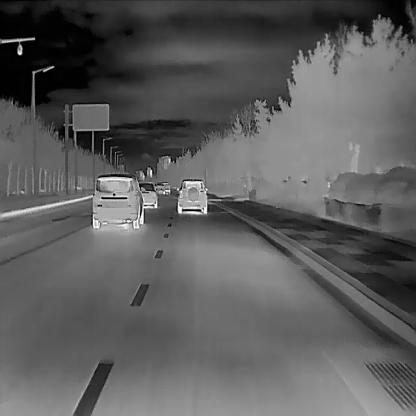car: (91, 173, 145, 228), (176, 178, 207, 214), (138, 180, 157, 208), (162, 180, 171, 194), (154, 183, 164, 194)
